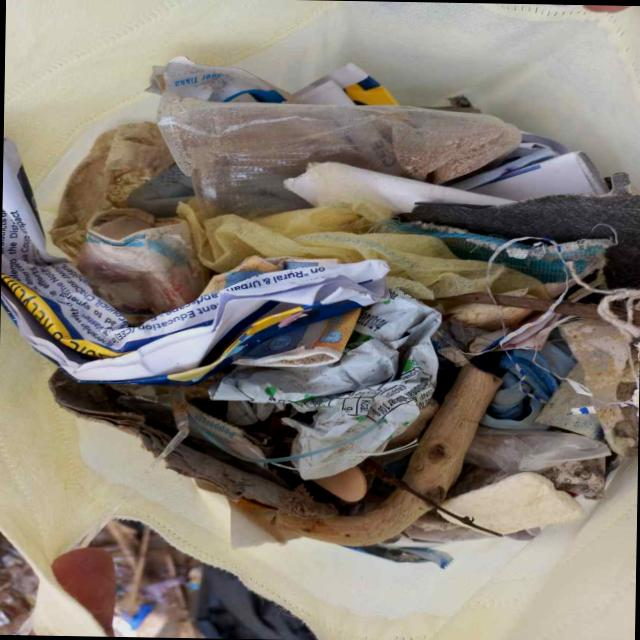carton: (49, 375, 335, 547)
giay: (0, 141, 387, 385), (210, 290, 441, 479), (284, 161, 512, 221)
nhua: (157, 91, 521, 215), (75, 207, 209, 316), (465, 426, 612, 474)
rac_huu_co: (403, 364, 501, 502), (273, 489, 430, 546)
vai_vun: (178, 201, 486, 297), (491, 265, 545, 296)
